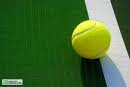tennis ball: (71, 20, 112, 60)
